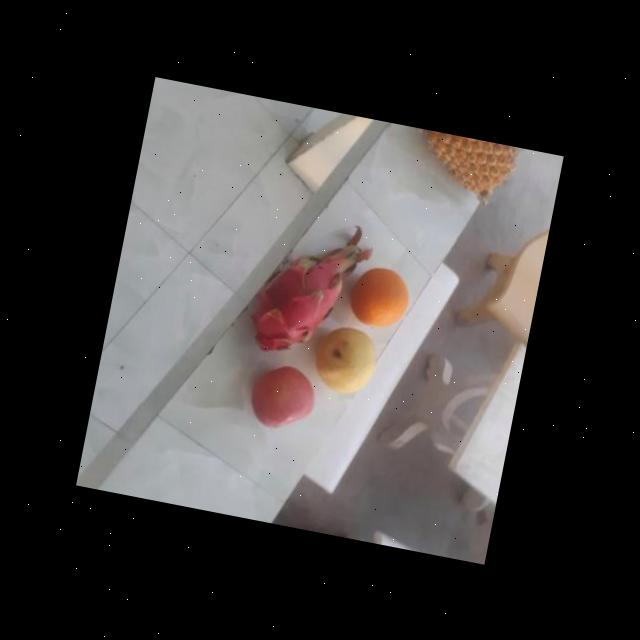apple: (244, 359, 320, 435)
orange: (344, 260, 416, 334)
pear: (307, 318, 383, 402)
pitaya: (244, 238, 352, 368)
